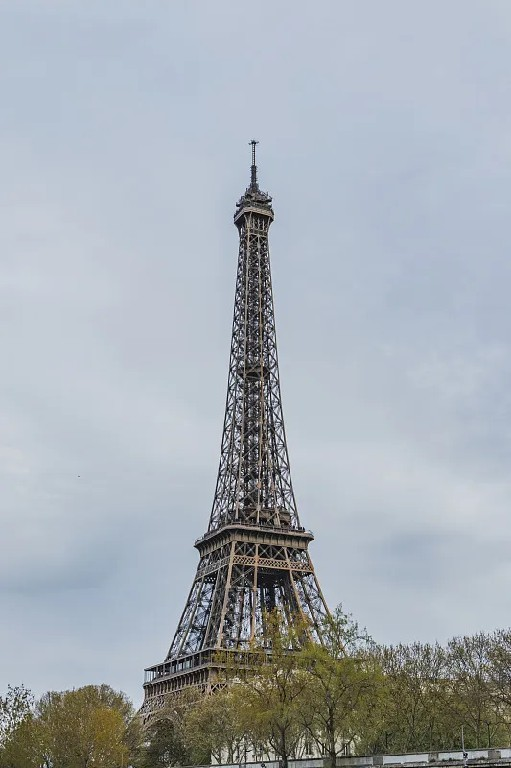Eiffel: (117, 139, 348, 768)
